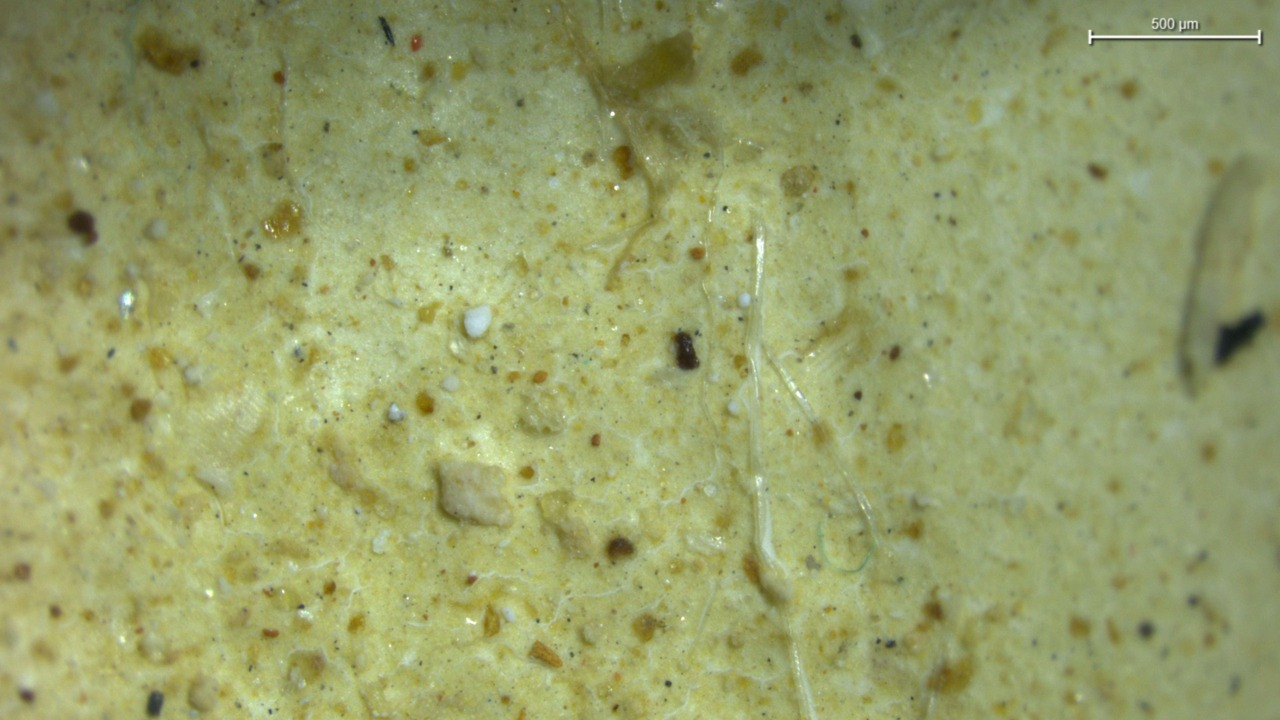microplastic_fragment: (440, 458, 509, 523), (461, 306, 497, 339), (388, 402, 408, 422), (737, 292, 751, 308)
